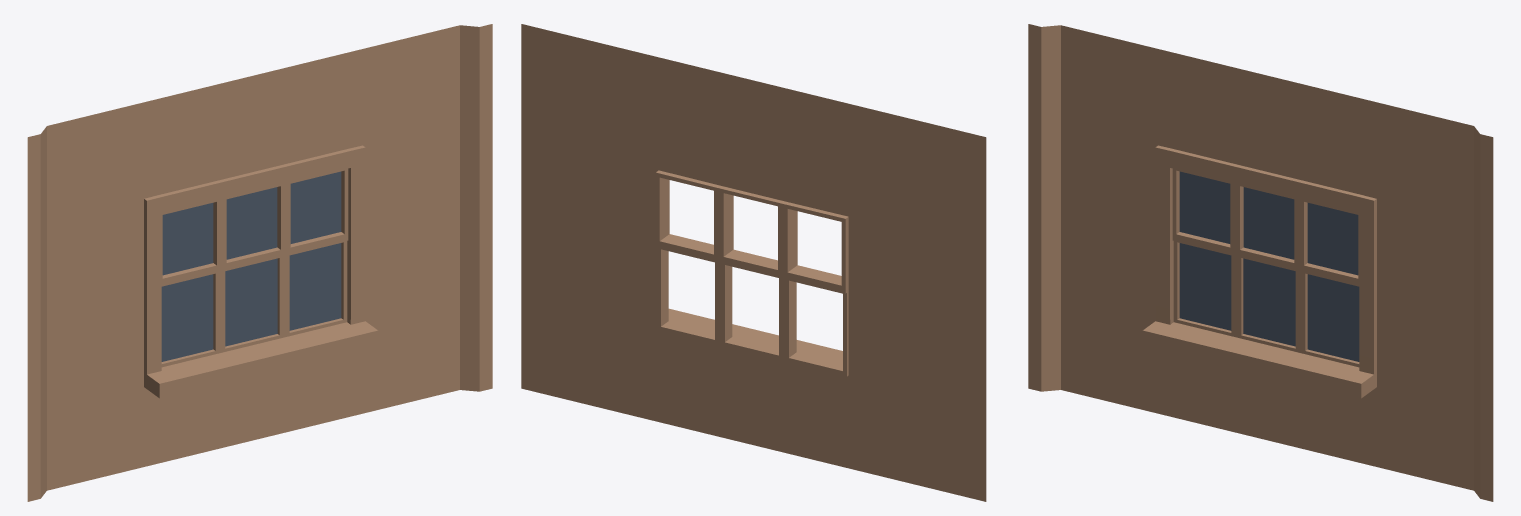
File: env_block_brick_inset_window.glb
3 renders of one model, left to right at view 1: azimuth 30°, elevation 25°; view 2: azimuth 150°, elevation 25°; view 3: azimuth 330°, elevation 25°, orthographic.
Parts seen in each view (by area): view 1: part_0, part_1; view 2: part_0; view 3: part_0, part_1.
Boxes of the visible parts, <box> form: part_0: <box>27,24,492,501</box>; part_1: <box>161,171,341,361</box>; part_0: <box>521,24,986,501</box>; part_0: <box>1028,24,1493,501</box>; part_1: <box>1179,171,1359,361</box>.
Bounding box in the file's own units: 4 × 3 × 0.3743.
